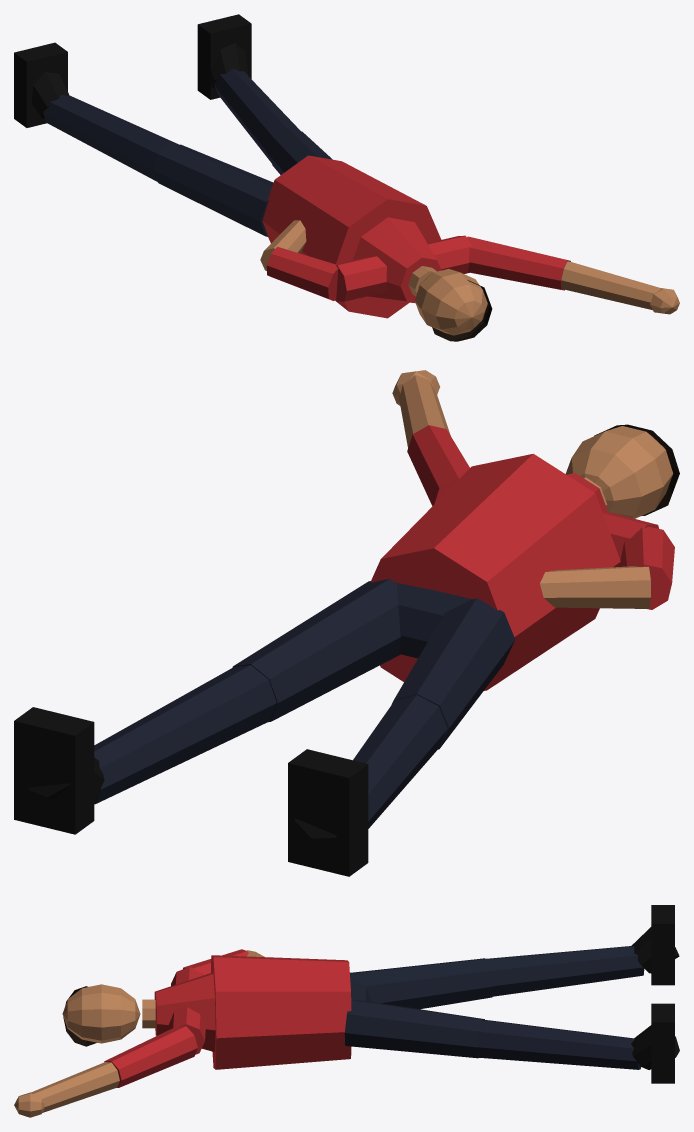
Rendered from dancer_01_disco_point_cm.obj.
The picture shows the model from 3 angles, top to bottom: view 1: azimuth 30°, elevation 25°; view 2: azimuth 150°, elevation 25°; view 3: azimuth 270°, elevation 25°; orthographic projection. The views are drawn at different scales.
Visible parts, largest first — view 1: dancer_01_disco_point; view 2: dancer_01_disco_point; view 3: dancer_01_disco_point.
Boxes of the visible parts, x1,y1,x2,y2 form: dancer_01_disco_point: [14, 14, 679, 341]; dancer_01_disco_point: [14, 370, 679, 876]; dancer_01_disco_point: [14, 905, 679, 1117].
Size of the model in its own units: 99.9 by 36 by 196.
